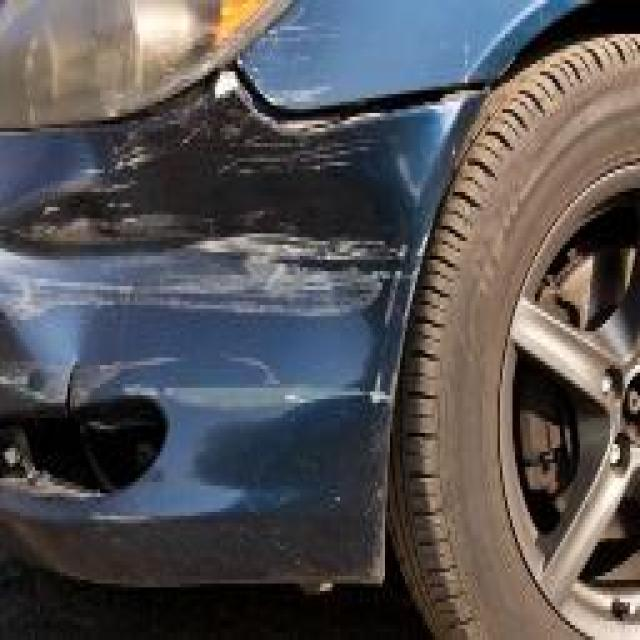Bumper: (2, 94, 450, 587)
